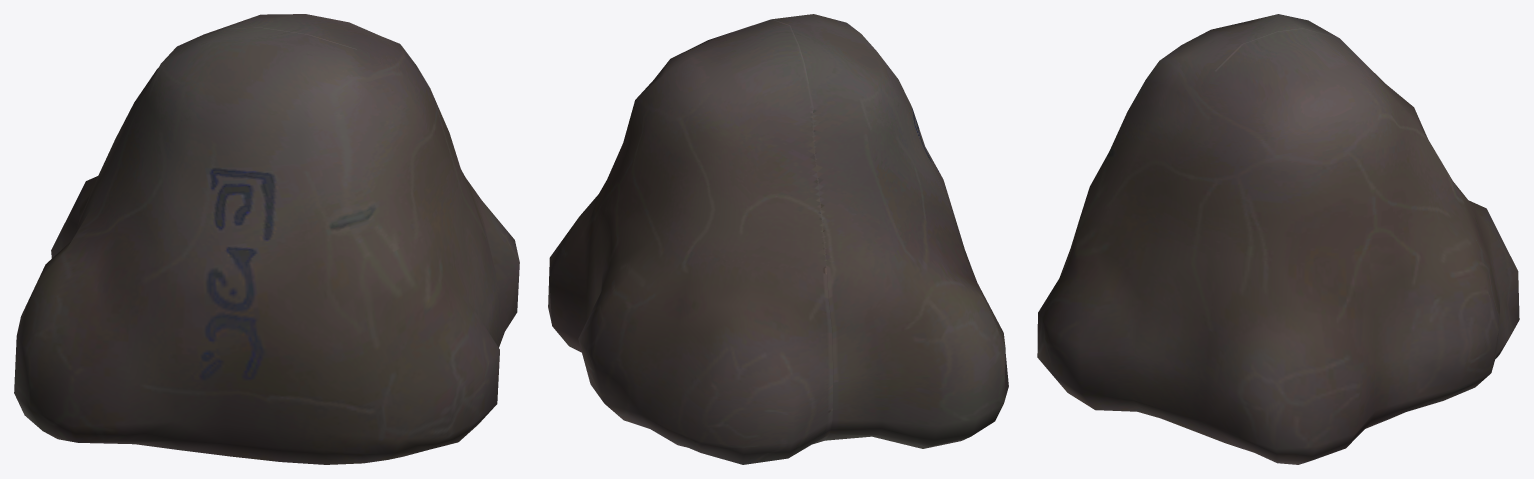
File: LowGlowStoneShape.dae
The picture shows the model from 3 angles, left to right: view 1: azimuth 30°, elevation 25°; view 2: azimuth 150°, elevation 25°; view 3: azimuth 270°, elevation 25°; orthographic projection. The views are drawn at different scales.
Parts seen in each view (by area): view 1: LowGlowStone; view 2: LowGlowStone; view 3: LowGlowStone.
Part boxes in pixels (x1,y1,x2,y2): LowGlowStone: [14, 14, 519, 464]; LowGlowStone: [548, 14, 1008, 464]; LowGlowStone: [1037, 14, 1519, 464].
Bounding box in the file's own units: 3.12 × 2.33 × 2.93.
